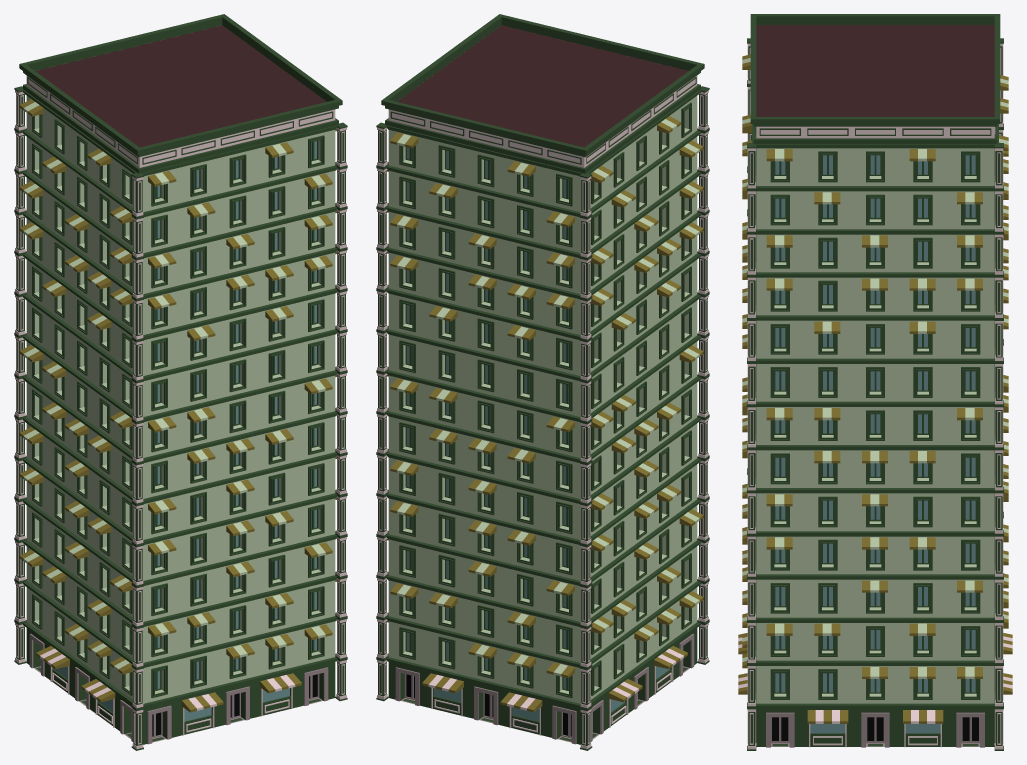
The picture shows the model from 3 angles, left to right: view 1: azimuth 30°, elevation 25°; view 2: azimuth 150°, elevation 25°; view 3: azimuth 270°, elevation 25°; orthographic projection. The views are drawn at different scales.
Visible parts, largest first — view 1: Procedural Building; view 2: Procedural Building; view 3: Procedural Building.
Part boxes in pixels (<box>): Procedural Building: <box>14,14,347,750</box>; Procedural Building: <box>376,14,709,750</box>; Procedural Building: <box>738,14,1012,750</box>.
Size of the model in its own units: 576 by 1460 by 576.
